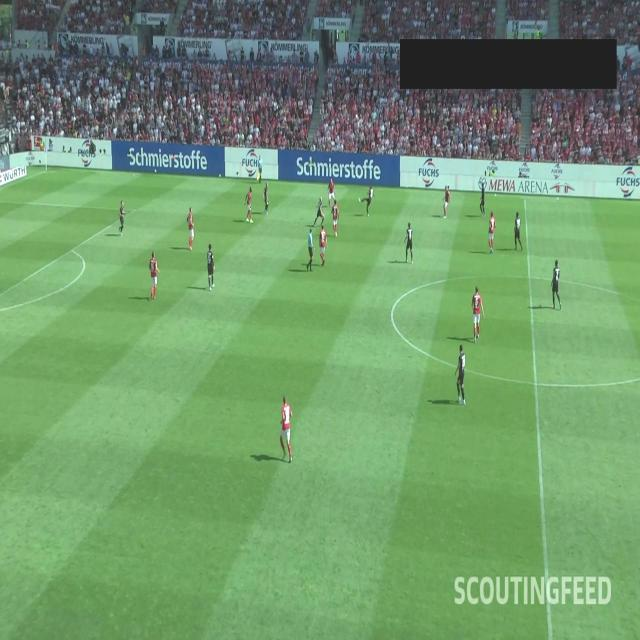ball: (355, 114, 358, 120)
player: (280, 395, 293, 463), (471, 285, 484, 343), (454, 343, 466, 405), (550, 260, 562, 310), (150, 250, 160, 300), (358, 186, 374, 216), (319, 224, 328, 266), (404, 222, 413, 264), (207, 243, 215, 290), (312, 196, 324, 226), (488, 212, 496, 254), (514, 212, 522, 252), (187, 208, 194, 250), (118, 200, 126, 236), (327, 177, 336, 208), (442, 184, 450, 218), (332, 199, 339, 237), (246, 186, 253, 223), (479, 182, 486, 217), (263, 182, 269, 215)
referee: (306, 228, 314, 271), (257, 154, 263, 182)
